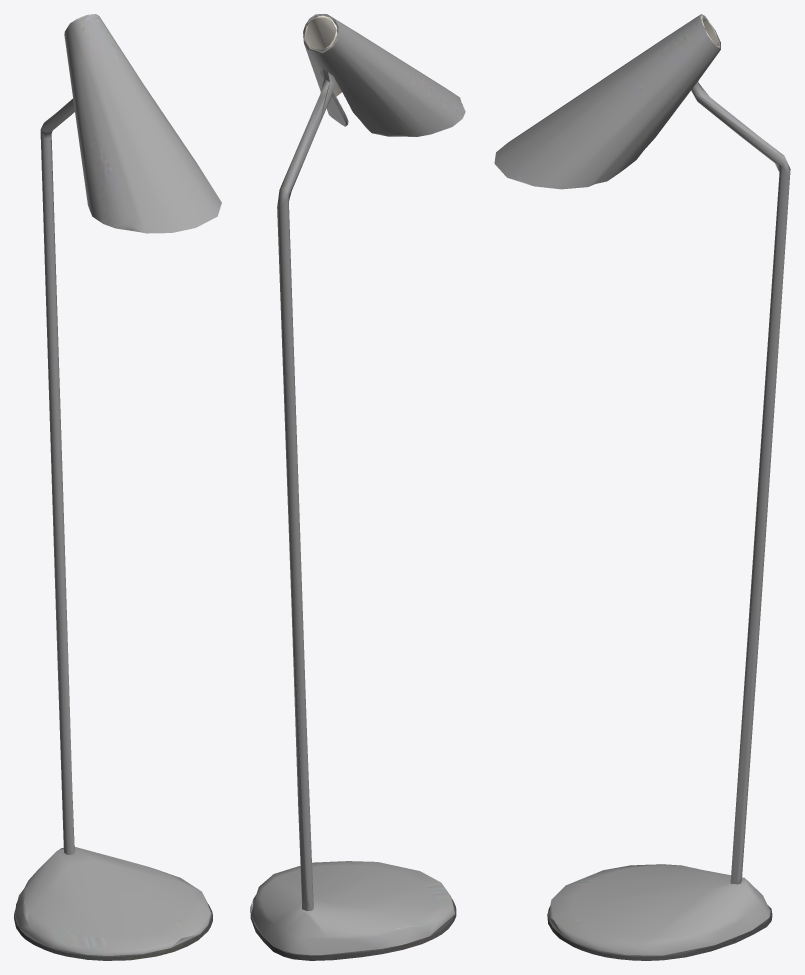
Rendered from Light0004.obj.
3 views of the same model, side by side, from view 1: azimuth 30°, elevation 25°; view 2: azimuth 150°, elevation 25°; view 3: azimuth 270°, elevation 25° (orthographic). The views are drawn at different scales.
Bounding box in the file's own units: 0.258 × 1.26 × 0.375.
Materials: 1 (1 with a texture image).
